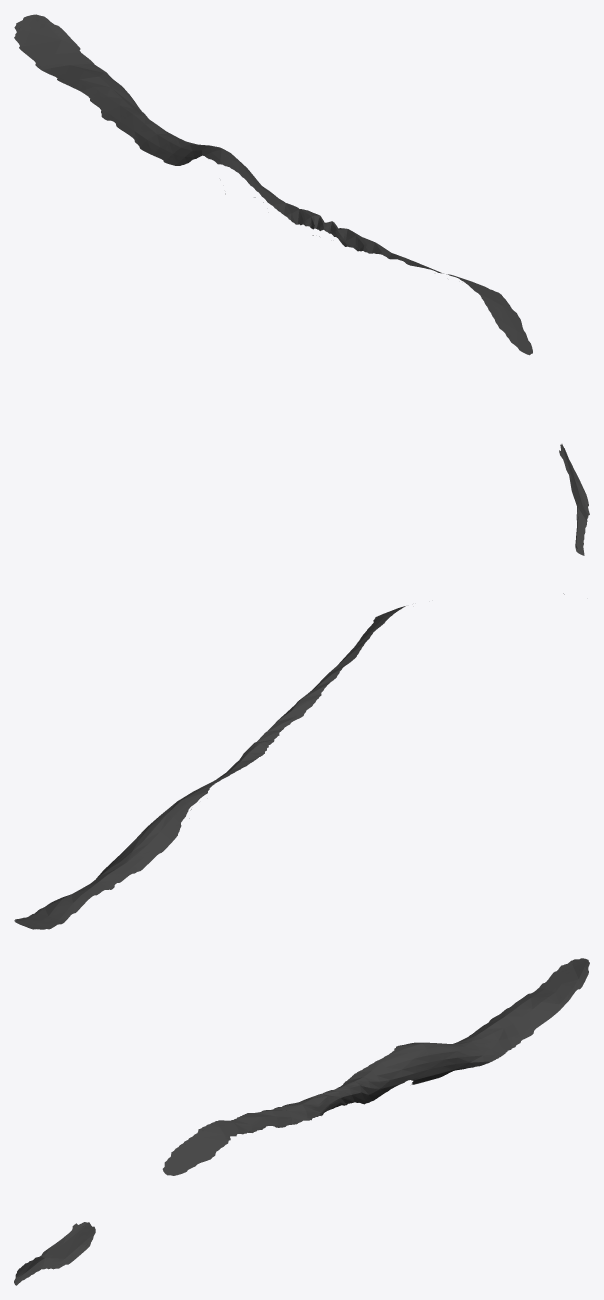
The model's file is a_palmar_digital_lateral.glb.
The picture shows the model from 3 angles, top to bottom: view 1: azimuth 30°, elevation 25°; view 2: azimuth 150°, elevation 25°; view 3: azimuth 330°, elevation 25°; orthographic projection. The views are drawn at different scales.
Visible parts, largest first — view 1: a_palmar_digital_lateral; view 2: a_palmar_digital_lateral; view 3: a_palmar_digital_lateral.
Boxes of the visible parts, box(x1,y1,x2,y2) form: a_palmar_digital_lateral: box(14, 14, 589, 555); a_palmar_digital_lateral: box(14, 593, 564, 929); a_palmar_digital_lateral: box(14, 958, 589, 1285).
Bounding box in the file's own units: 0.0278 × 0.0233 × 0.2019.
Materials: 1 (1 with a texture image).
